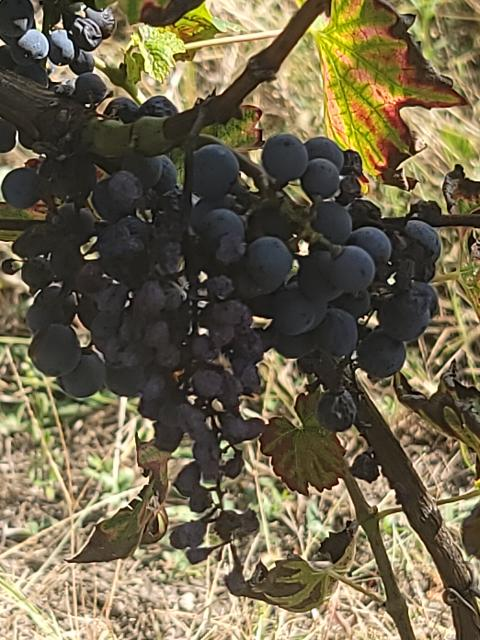grapes: (190, 135, 441, 379), (61, 210, 264, 511)
